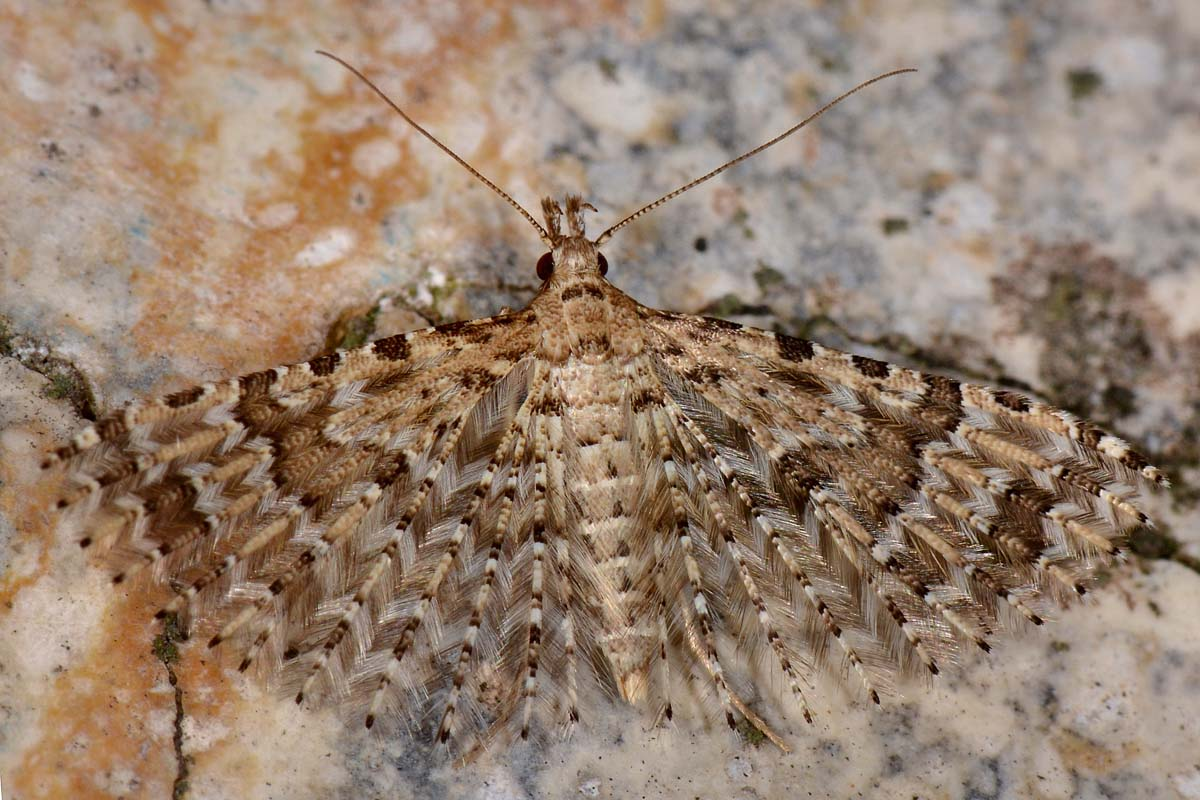Alucitidae: (30, 41, 1180, 755)
moth: (28, 39, 1178, 753)
